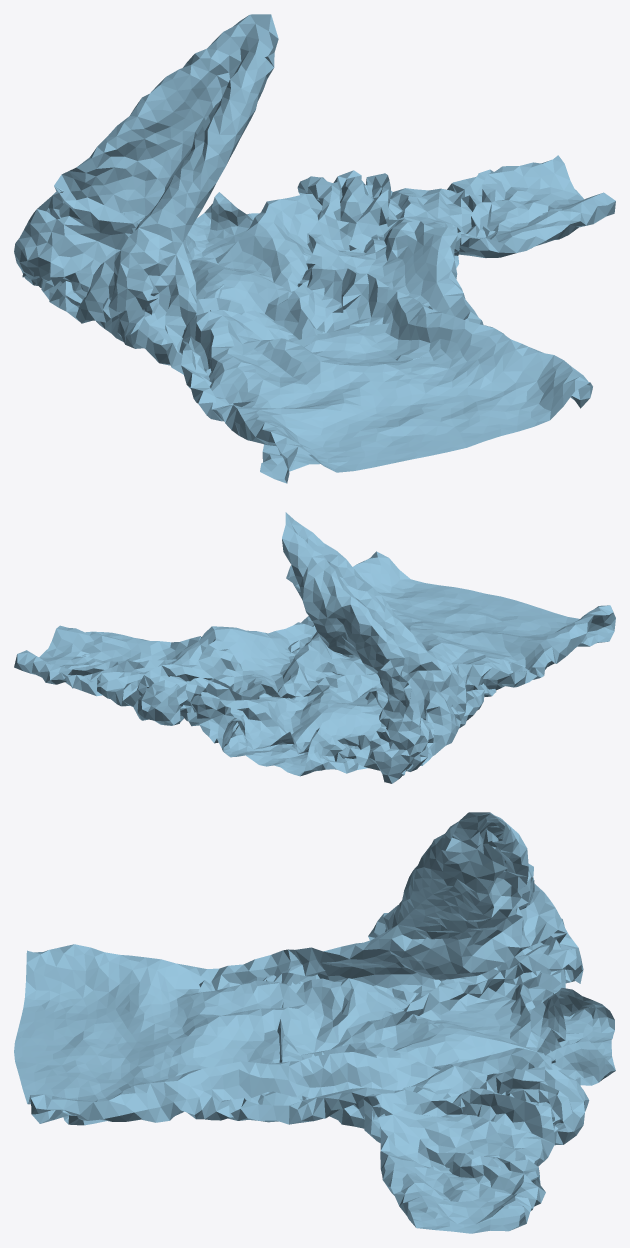
Rendered from frame_15.glb.
The picture shows the model from 3 angles, top to bottom: view 1: azimuth 30°, elevation 25°; view 2: azimuth 150°, elevation 25°; view 3: azimuth 270°, elevation 25°; orthographic projection. The views are drawn at different scales.
Parts seen in each view (by area): view 1: frame_15.obj; view 2: frame_15.obj; view 3: frame_15.obj.
Boxes of the visible parts, x1,y1,x2,y2 form: frame_15.obj: [14, 14, 615, 483]; frame_15.obj: [14, 512, 615, 783]; frame_15.obj: [14, 812, 615, 1233].
Size of the model in its own units: 1.39 by 0.6698 by 1.35.
